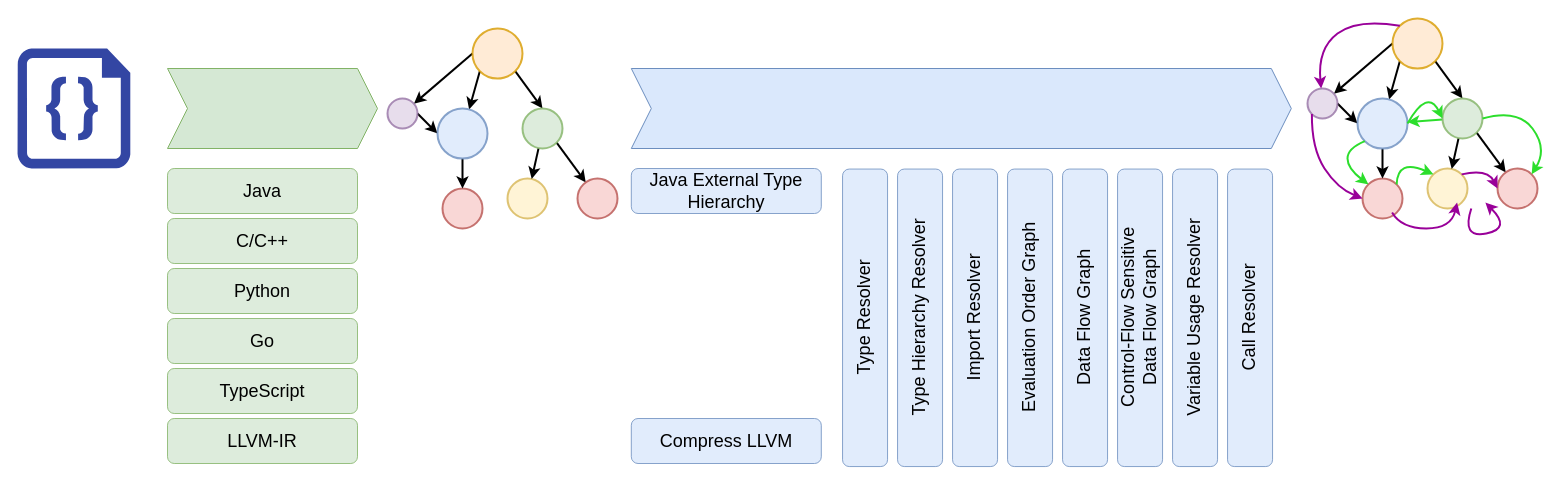
Some shapes in this 1559 by 484 pixel diagram are drawn without their labels. The centre of each missing label's shape, as x and y in pixels:
Language Frontend: point (272, 108)
Passes: point (960, 108)
